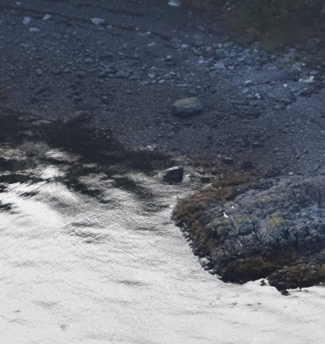white_in_green: (140, 145, 207, 197), (155, 81, 217, 134)
